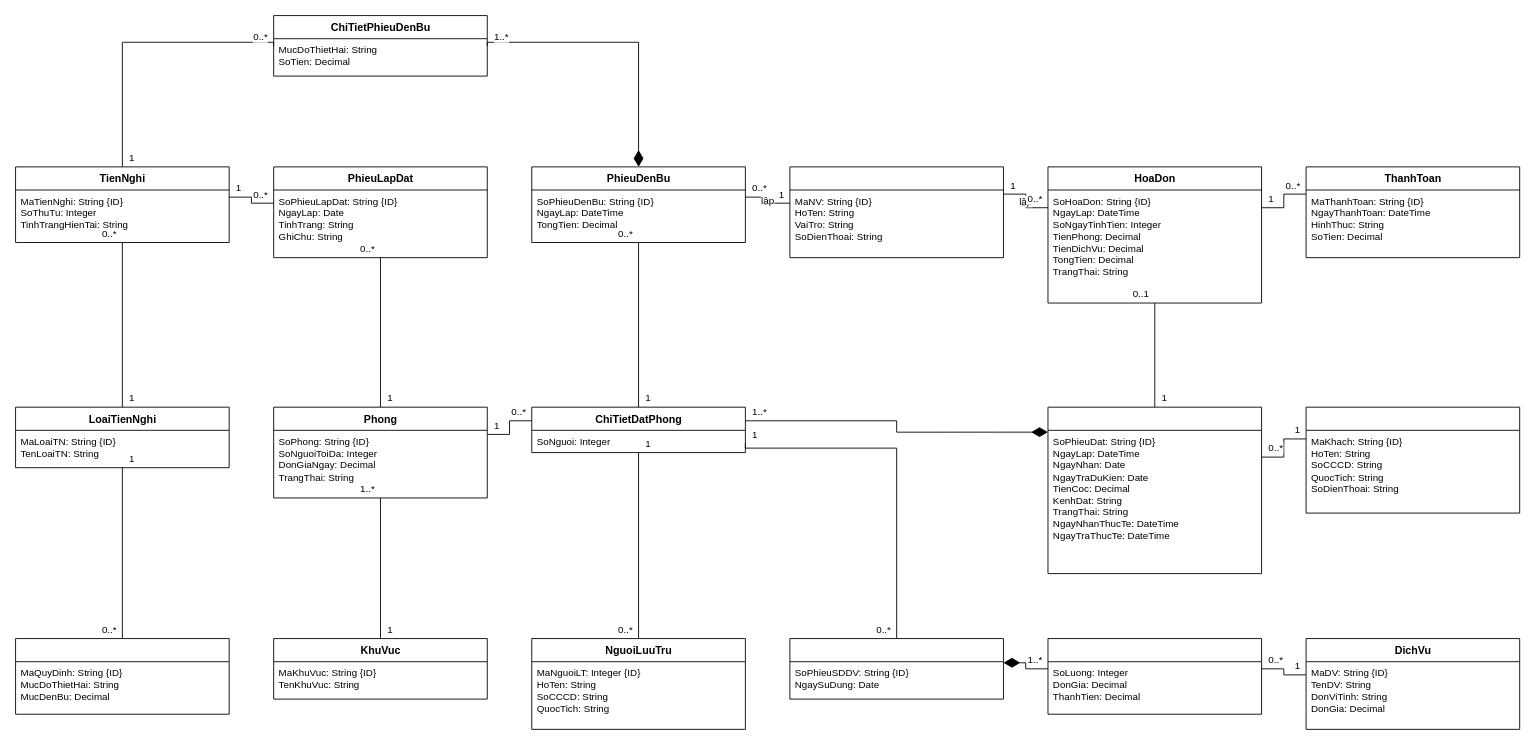
Image size: 1535x745. Some labels were removed from this diagram. The box of each missing label's shape, as (x1, y1, x2, y2) in pixels:
ChiTietPhieuSuDungDV: (1047, 638, 1262, 714)
KhachHang: (1305, 406, 1520, 513)
NhanVien: (789, 166, 1003, 258)
PhieuDatPhong: (1047, 406, 1262, 574)
PhieuSuDungDV: (789, 638, 1003, 699)
QuyDinhDenBu: (15, 638, 229, 714)
